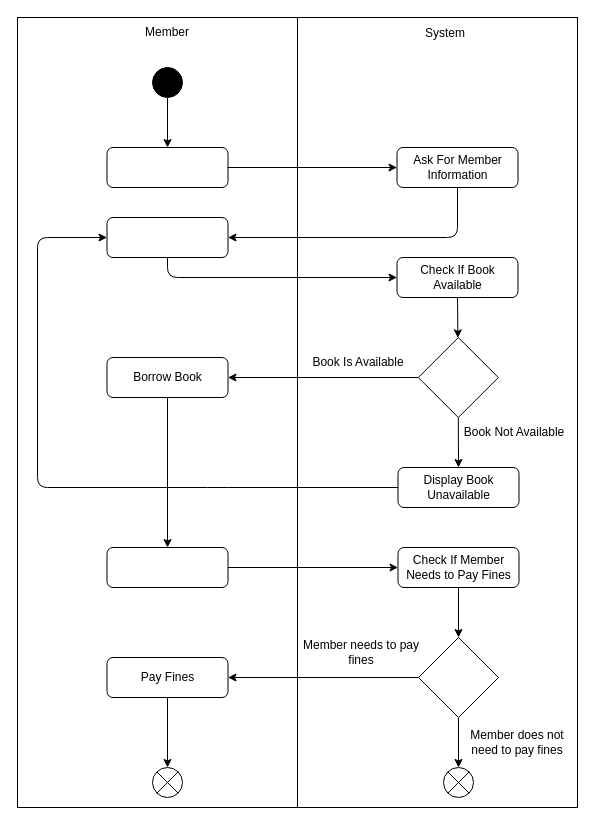
This 595x826 diagram has some shape labels left out. Here are the shapes that lost their labels. From the top down, the centre of each, then its label:
At point 167,167: "Create An Account".
At point 167,237: "Borrow A Book".
At point 167,567: "Return Book".
